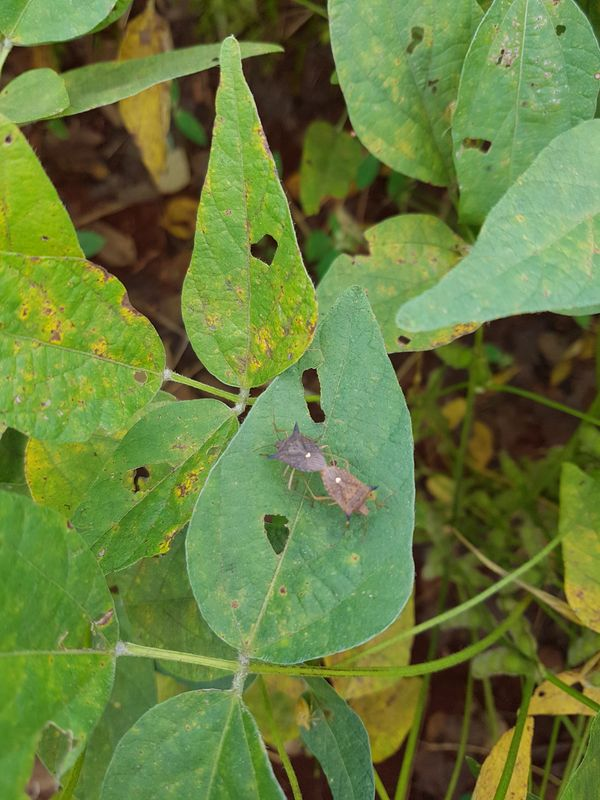Euschistus_heros_adulto: (322, 468, 392, 534), (254, 412, 326, 470)
Euschistus_heros_ninfa: (283, 691, 324, 738)
